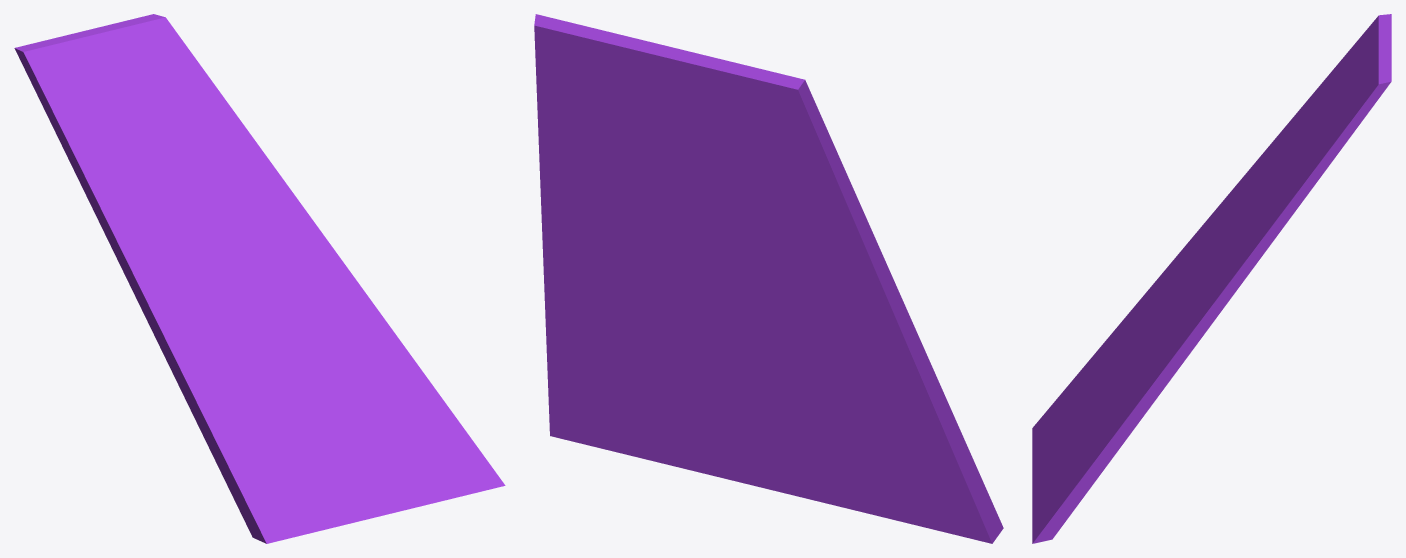
File: Window_86.fbx
3 views of the same model, side by side, from view 1: azimuth 30°, elevation 25°; view 2: azimuth 150°, elevation 25°; view 3: azimuth 270°, elevation 25° (orthographic). The views are drawn at different scales.
Parts seen in each view (by area): view 1: Window_86; view 2: Window_86; view 3: Window_86.
Boxes of the visible parts, box(x1,y1,x2,y2) form: Window_86: box(14, 14, 505, 543); Window_86: box(534, 14, 1003, 543); Window_86: box(1032, 14, 1391, 543).
Bounding box in the file's own units: 818 × 960 × 824.
